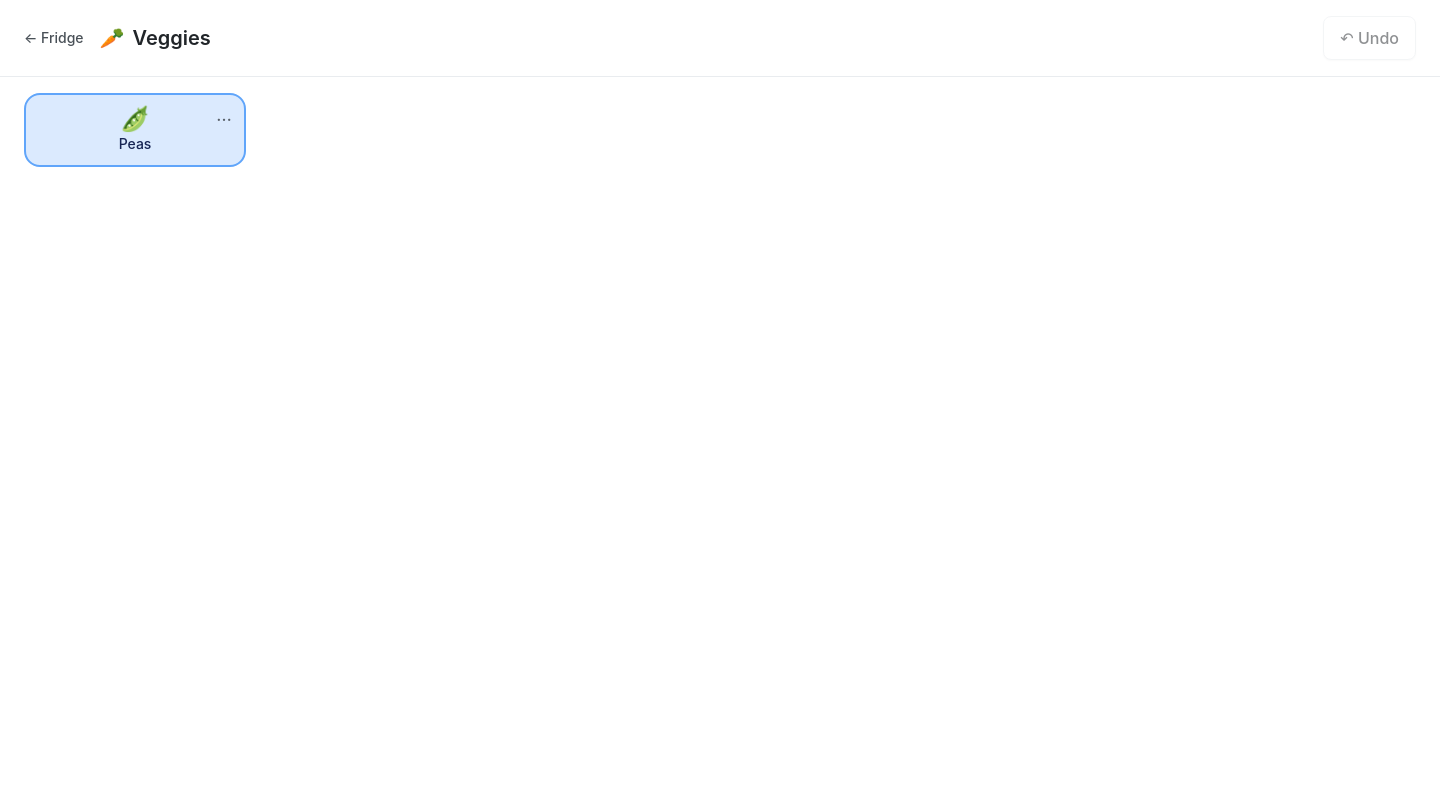
Scenario: marks an item as gone
The image size is (1440, 810).
Check: the button with aria-label "Peas, keeps" is shown, box x1=24 y1=93 x2=246 y2=166
Click the button named "More for Peas": (224, 115) x1=202 y1=93 x2=246 y2=137
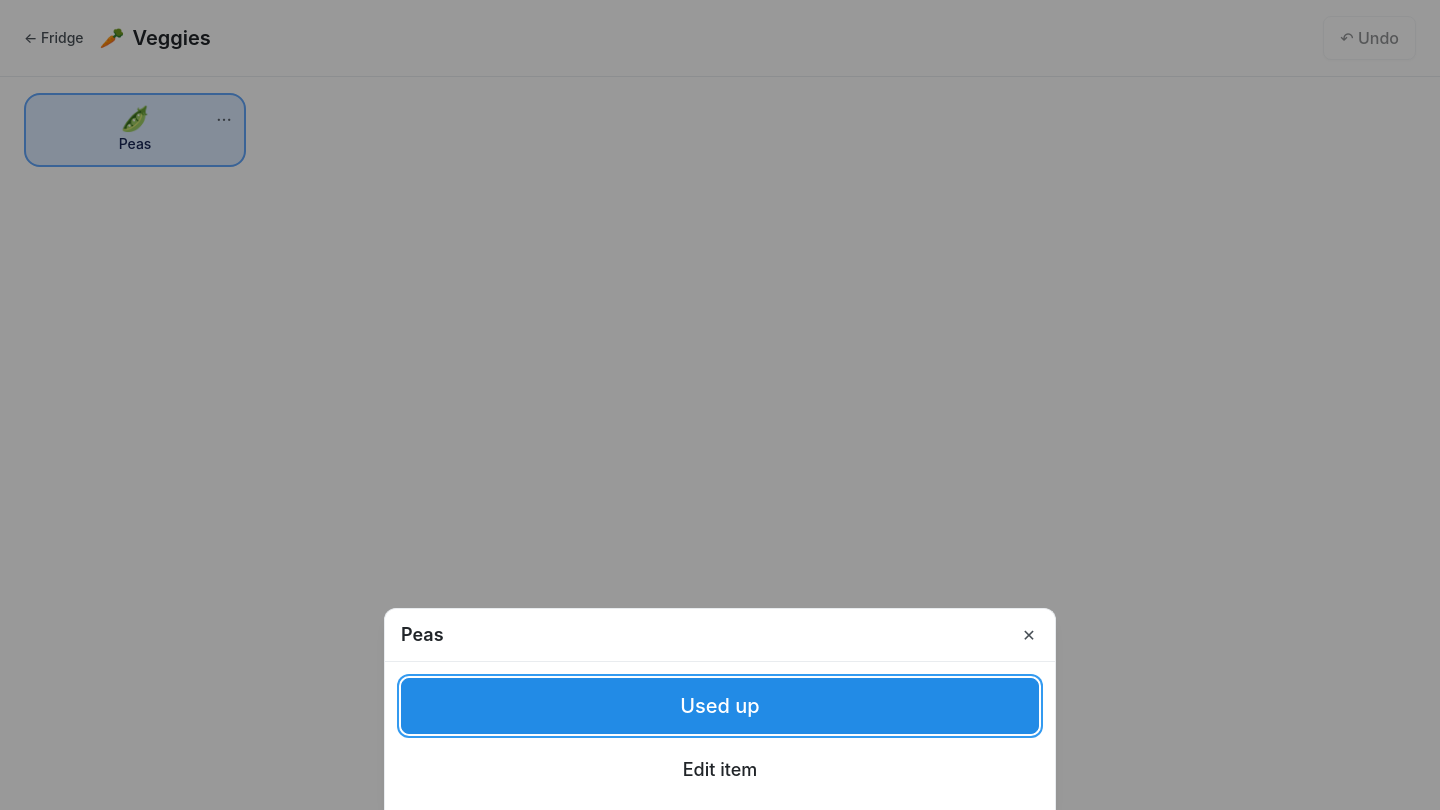
Click the button "Edit item": (720, 770) x1=401 y1=746 x2=1039 y2=794
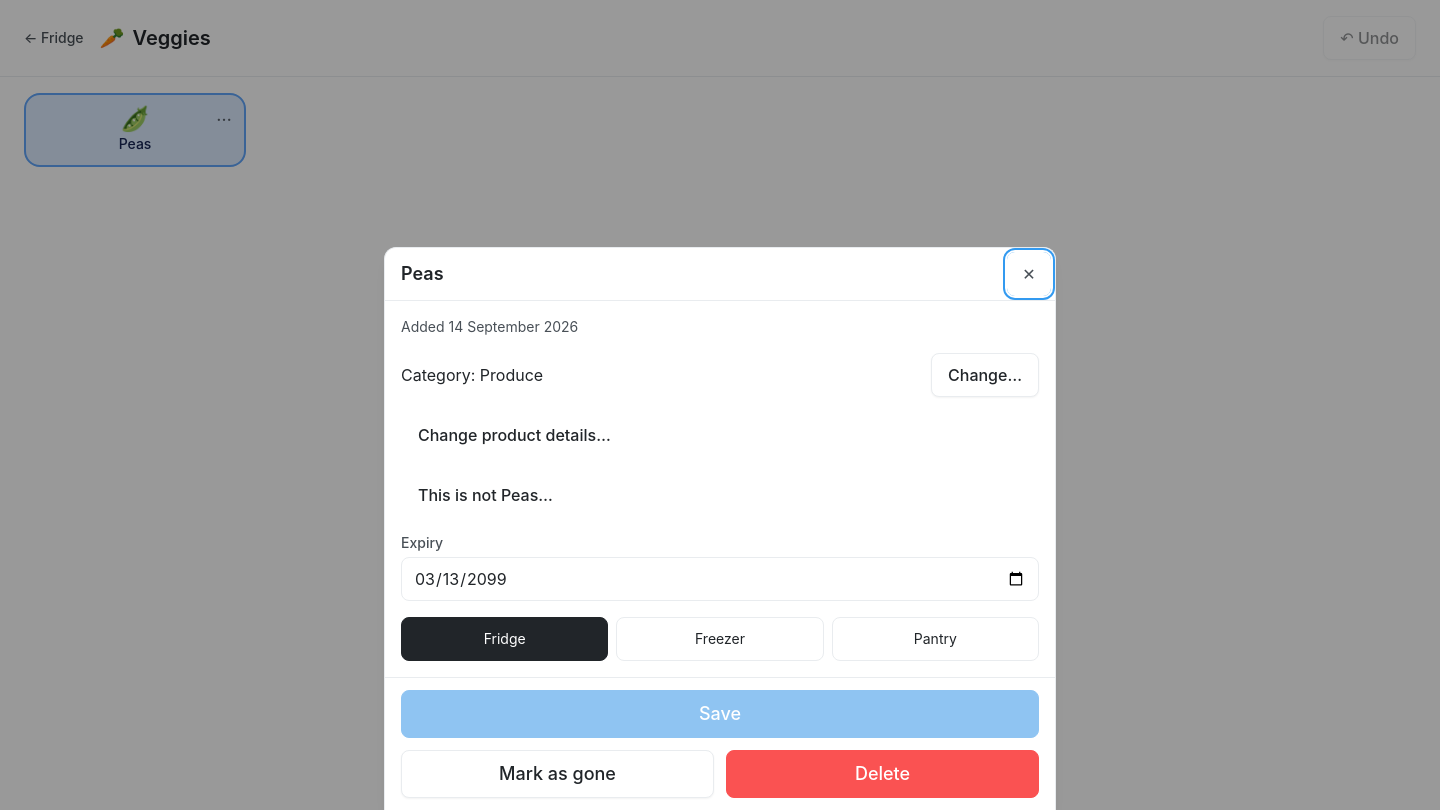
Click the button "Mark as gone": (558, 774) x1=401 y1=750 x2=714 y2=798
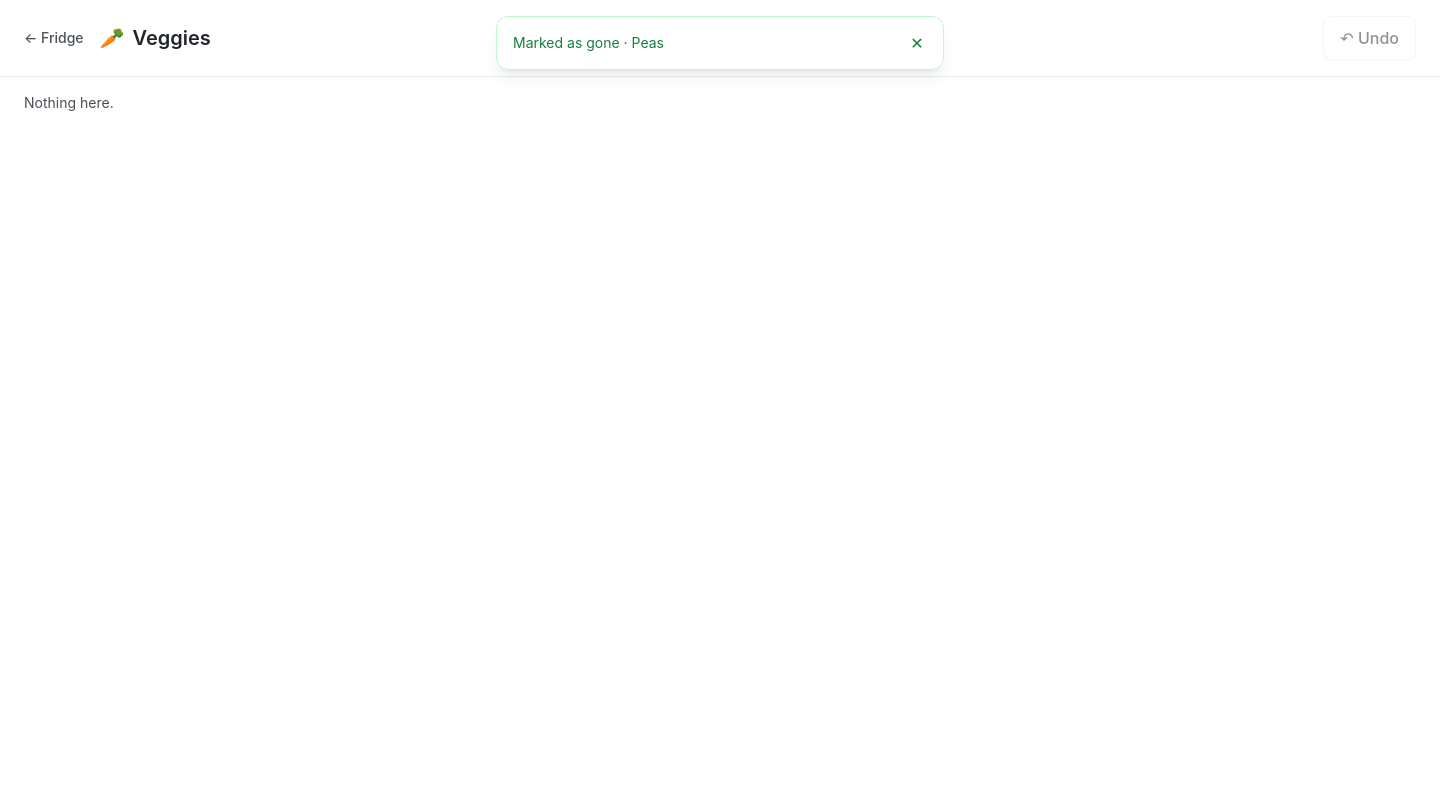
Check: the text "Marked as gone · Peas" is shown, box x1=513 y1=34 x2=664 y2=51
